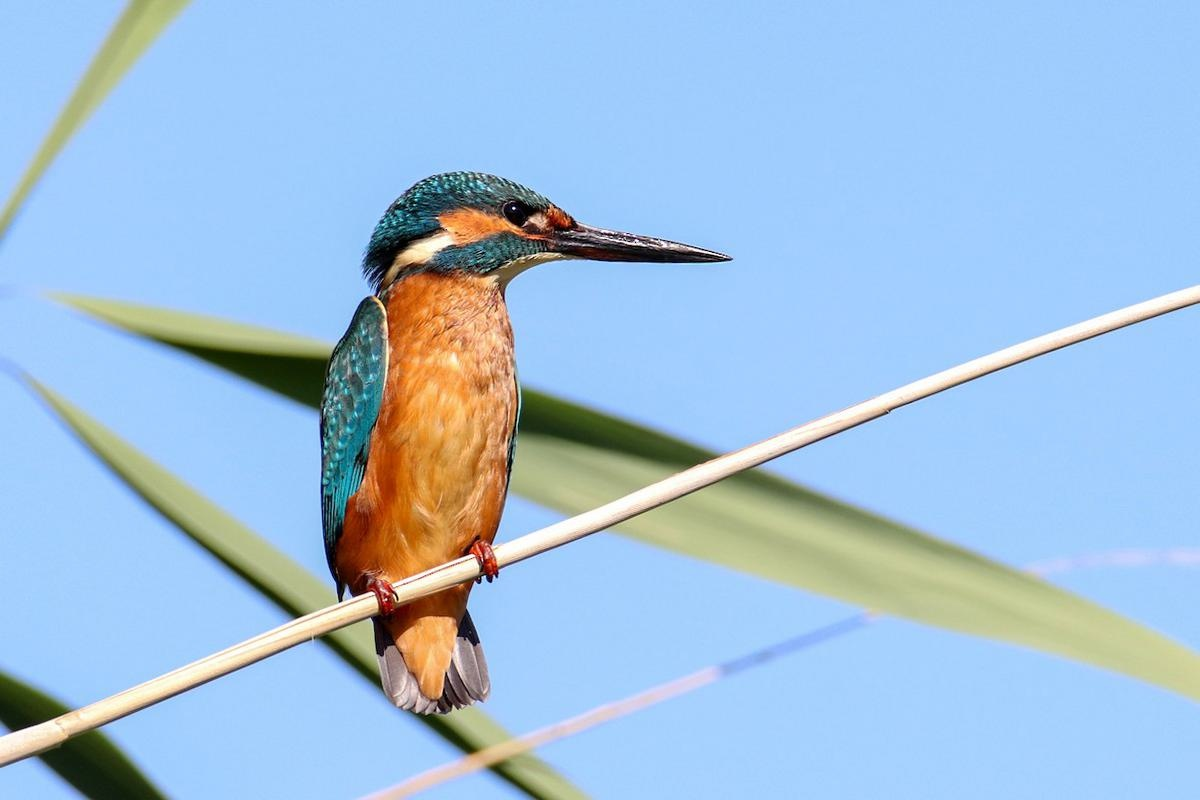kingfisher: (348, 146, 744, 678)
